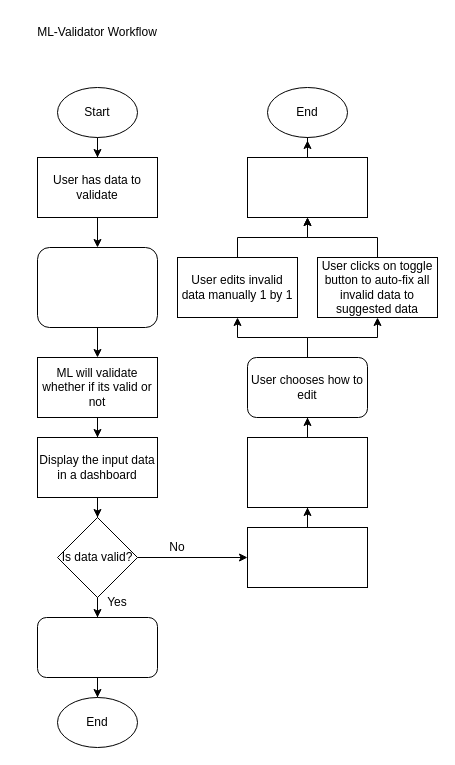
This 455x765 diagram has some shape labels left out. The box of each missing label's shape, as (x1, y1, x2, y2) in pixels:
Highlight invalid data: (246, 526, 368, 588)
Suggest and correct data in the table, and also a summary of invalid data below: (246, 436, 368, 508)
User exports the file iin csv or excel: (36, 616, 158, 678)
User inputs data into the ML-Validator(Can be in a forrm of csv or excel): (36, 246, 158, 328)
User saves edit and export the file in csv or excel: (246, 156, 368, 218)
